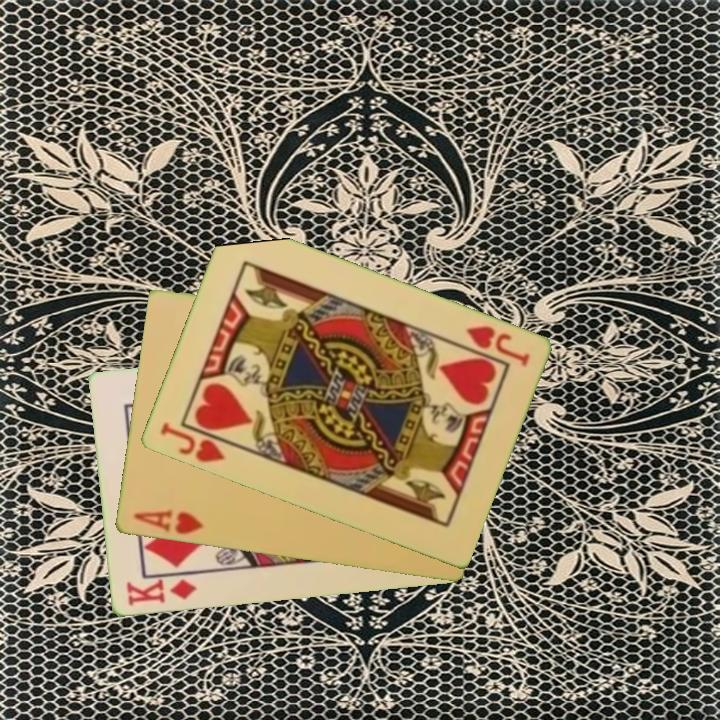Ah: (130, 506, 207, 538)
Jh: (156, 419, 238, 466), (462, 322, 532, 370)
Kd: (122, 576, 199, 610)
